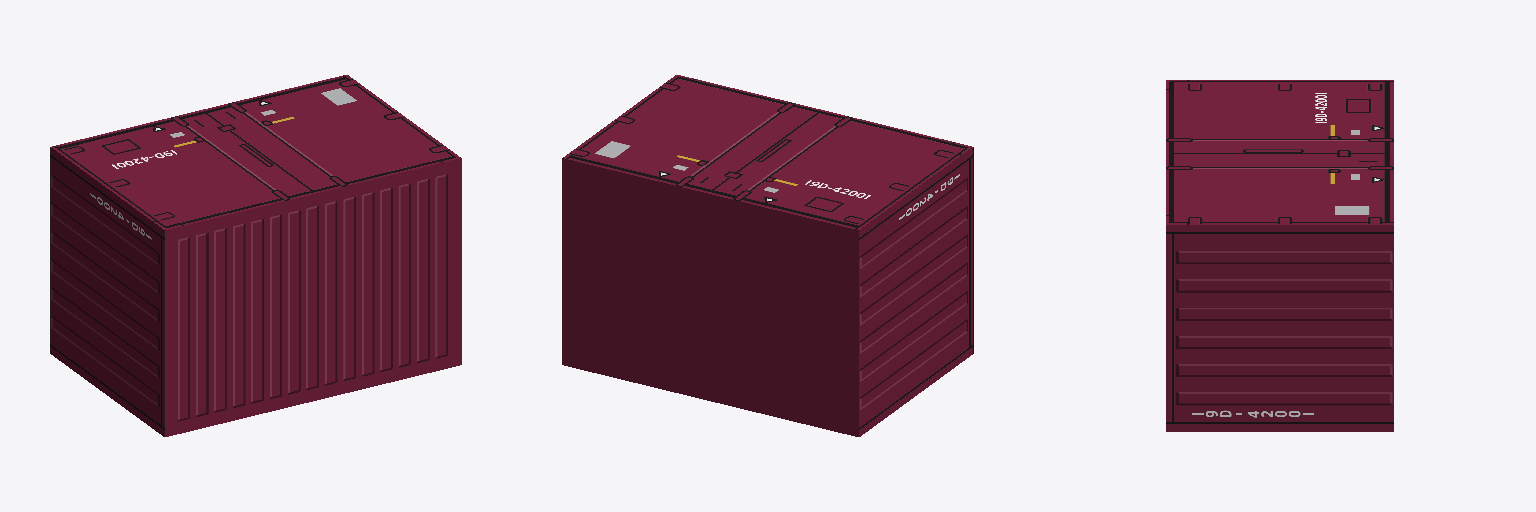
The picture shows the model from 3 angles: view 1: azimuth 30°, elevation 25°; view 2: azimuth 150°, elevation 25°; view 3: azimuth 270°, elevation 25°; orthographic projection.
Visible parts, largest first — view 1: Object.1; view 2: Object.1; view 3: Object.1.
Boxes of the visible parts, box(x1,y1,x2,y2) form: Object.1: box(50, 75, 461, 436); Object.1: box(562, 75, 973, 436); Object.1: box(1166, 80, 1393, 431).
Bounding box in the file's own units: 59.97 × 40 × 40.
Materials: 4 (4 with a texture image).